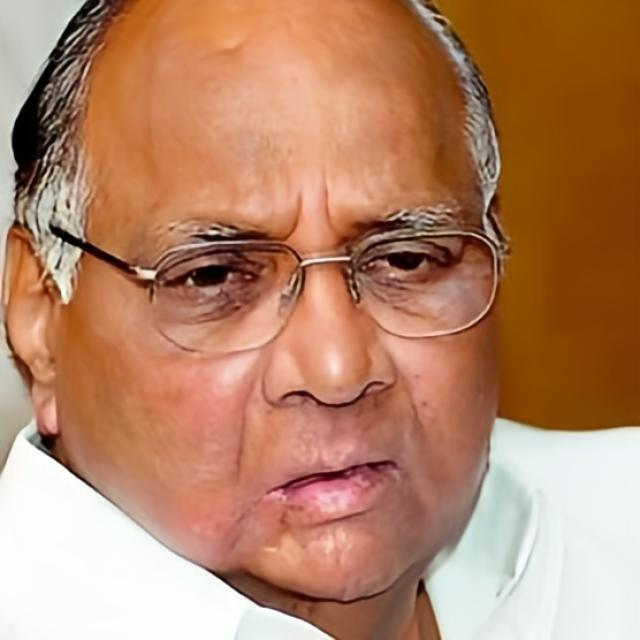anger: (82, 37, 492, 600)
